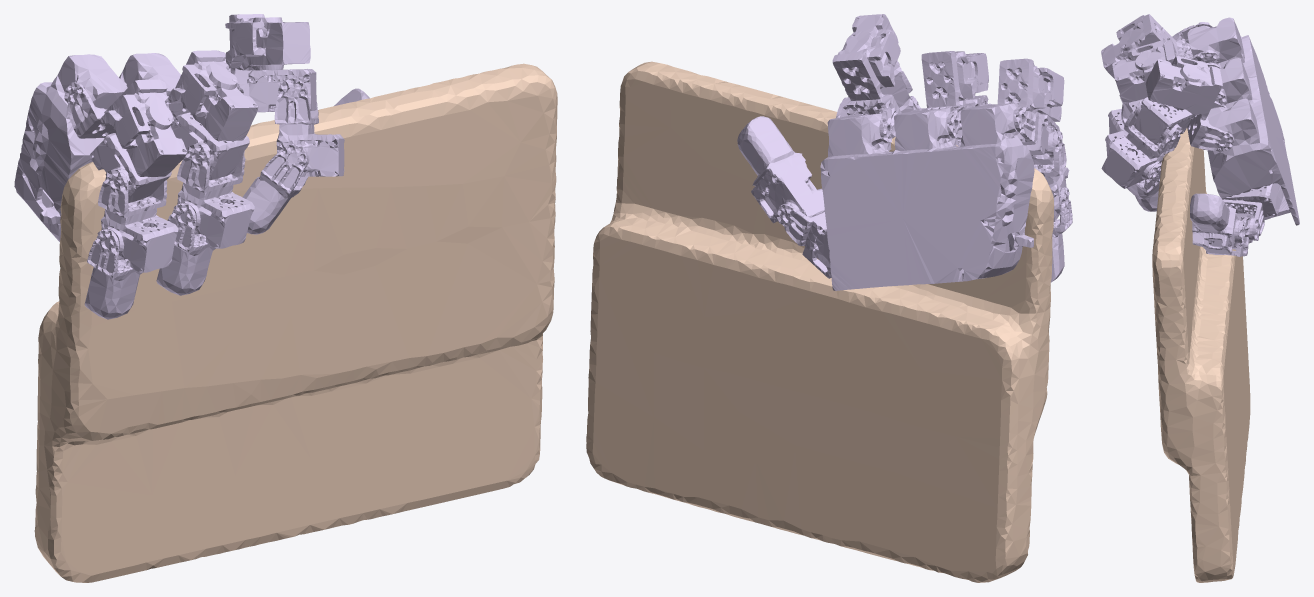
Rendered from 66331e0ae0aa14-closed.glb.
The picture shows the model from 3 angles, left to right: view 1: azimuth 30°, elevation 25°; view 2: azimuth 150°, elevation 25°; view 3: azimuth 270°, elevation 25°; orthographic projection. The views are drawn at different scales.
Visible parts, largest first — view 1: world, LEAP_hand; view 2: world, LEAP_hand; view 3: LEAP_hand, world.
Part boxes in pixels (x1,y1,x2,y2): world: [34, 63, 557, 582]; LEAP_hand: [14, 14, 369, 319]; world: [586, 61, 1054, 582]; LEAP_hand: [737, 14, 1072, 290]; LEAP_hand: [1101, 14, 1299, 256]; world: [1152, 128, 1250, 582].
Bounding box in the file's own units: 0.308 × 0.332 × 0.14.
